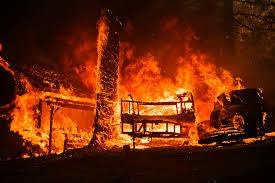fire: (0, 16, 253, 158)
